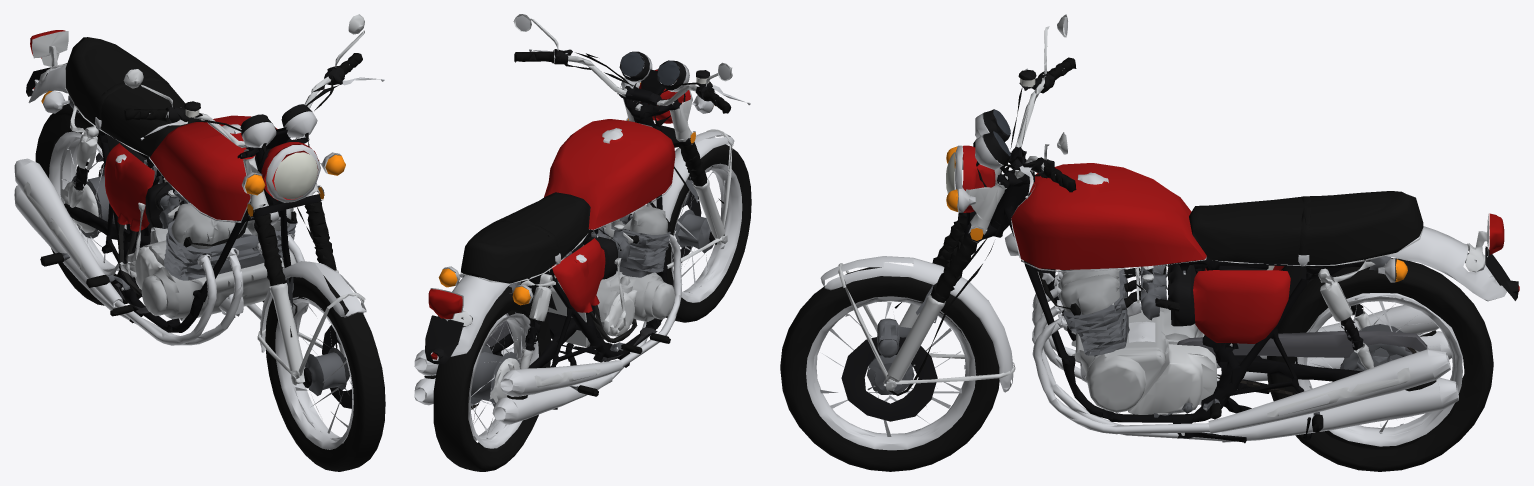
The model's file is HondaCB750.obj.
3 renders of one model, left to right at view 1: azimuth 30°, elevation 25°; view 2: azimuth 150°, elevation 25°; view 3: azimuth 270°, elevation 25°, orthographic. The views are drawn at different scales.
Visible parts, largest first — view 1: Caisse_Peinture_0CarrozzeriaLP, RoueAV_Corps_0Pneumatici, Caisse_Corps_11xxxDefault, Caisse_Corps_frame, Caisse_Corps_terminali, Caisse_Corps_steel, Caisse_Corps_engine, Direction_Corps_Manubrio, Caisse_Corps_CromeVarie, RoueAV_Corps_Cerchi, Direction_Corps_CromMed, Direction_Corps_Gomma (+24 smaller); view 2: Caisse_Peinture_0CarrozzeriaLP, Caisse_Corps_11xxxDefault, RoueAR_Corps_0Pneumatici, Caisse_Corps_terminali, Caisse_Corps_frame, RoueAV_Corps_0Pneumatici, RoueAV_Corps_Cerchi, Direction_Corps_Manubrio, Caisse_Corps_engine, Caisse_Corps_steel, Caisse_Corps_PlasticaNera, Caisse_Corps_CromMed (+24 smaller); view 3: Caisse_Peinture_0CarrozzeriaLP, Caisse_Corps_11xxxDefault, RoueAR_Corps_0Pneumatici, RoueAV_Corps_0Pneumatici, Caisse_Corps_terminali, Caisse_Corps_frame, RoueAV_Corps_Cerchi, Caisse_Corps_CromMed, Direction_Corps_Manubrio, Caisse_Corps_steel, RoueAR_Corps_Cerchi, Caisse_Corps_Cerchi (+19 smaller).
Boxes of the visible parts, x1=… form: Caisse_Peinture_0CarrozzeriaLP: x1=104, y1=115, x2=318, y2=231; RoueAV_Corps_0Pneumatici: x1=265, y1=275, x2=385, y2=471; Caisse_Corps_11xxxDefault: x1=65, y1=37, x2=201, y2=156; Caisse_Corps_frame: x1=64, y1=110, x2=321, y2=332; Caisse_Corps_terminali: x1=14, y1=158, x2=122, y2=310; Caisse_Corps_steel: x1=61, y1=95, x2=296, y2=290; Caisse_Corps_engine: x1=143, y1=227, x2=284, y2=320; Direction_Corps_Manubrio: x1=123, y1=14, x2=364, y2=383; Caisse_Corps_CromeVarie: x1=24, y1=31, x2=190, y2=277; RoueAV_Corps_Cerchi: x1=275, y1=296, x2=353, y2=449; Direction_Corps_CromMed: x1=242, y1=111, x2=366, y2=316; Direction_Corps_Gomma: x1=167, y1=71, x2=345, y2=337; Caisse_Peinture_0CarrozzeriaLP: x1=544, y1=69, x2=690, y2=312; Caisse_Corps_11xxxDefault: x1=461, y1=192, x2=590, y2=283; RoueAR_Corps_0Pneumatici: x1=433, y1=285, x2=550, y2=471; Caisse_Corps_terminali: x1=414, y1=344, x2=622, y2=424; Caisse_Corps_frame: x1=489, y1=104, x2=690, y2=409; RoueAV_Corps_0Pneumatici: x1=665, y1=144, x2=751, y2=322; RoueAV_Corps_Cerchi: x1=671, y1=163, x2=742, y2=302; Direction_Corps_Manubrio: x1=513, y1=14, x2=732, y2=244; Caisse_Corps_engine: x1=547, y1=271, x2=664, y2=346; Caisse_Corps_steel: x1=463, y1=213, x2=670, y2=390; Caisse_Corps_PlasticaNera: x1=425, y1=49, x2=711, y2=364; Caisse_Corps_CromMed: x1=432, y1=128, x2=622, y2=356; Caisse_Peinture_0CarrozzeriaLP: x1=962, y1=145, x2=1290, y2=343; Caisse_Corps_11xxxDefault: x1=1189, y1=191, x2=1423, y2=263; RoueAR_Corps_0Pneumatici: x1=1267, y1=258, x2=1493, y2=471; RoueAV_Corps_0Pneumatici: x1=780, y1=267, x2=999, y2=471; Caisse_Corps_terminali: x1=1208, y1=305, x2=1458, y2=442; Caisse_Corps_frame: x1=964, y1=184, x2=1370, y2=443; RoueAV_Corps_Cerchi: x1=806, y1=296, x2=976, y2=450; Caisse_Corps_CromMed: x1=1005, y1=172, x2=1507, y2=384; Direction_Corps_Manubrio: x1=883, y1=14, x2=1067, y2=390; Caisse_Corps_steel: x1=1062, y1=256, x2=1391, y2=417; RoueAR_Corps_Cerchi: x1=1297, y1=293, x2=1462, y2=446; Caisse_Corps_Cerchi: x1=1032, y1=272, x2=1221, y2=441.
Size of the model in its own units: 0.8956 by 1.27 by 2.16.
